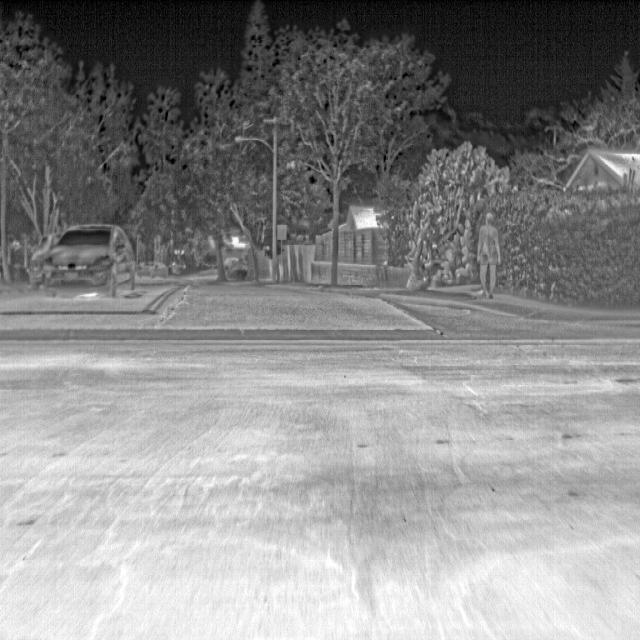Pedestrian: (476, 211, 502, 301)
Vehicle: (41, 220, 137, 301)
